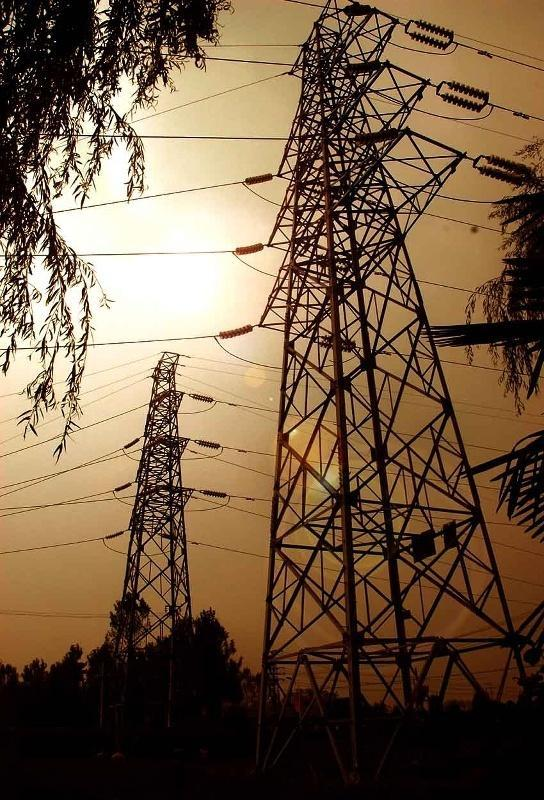power_tower: (217, 0, 544, 772), (102, 348, 229, 648)
